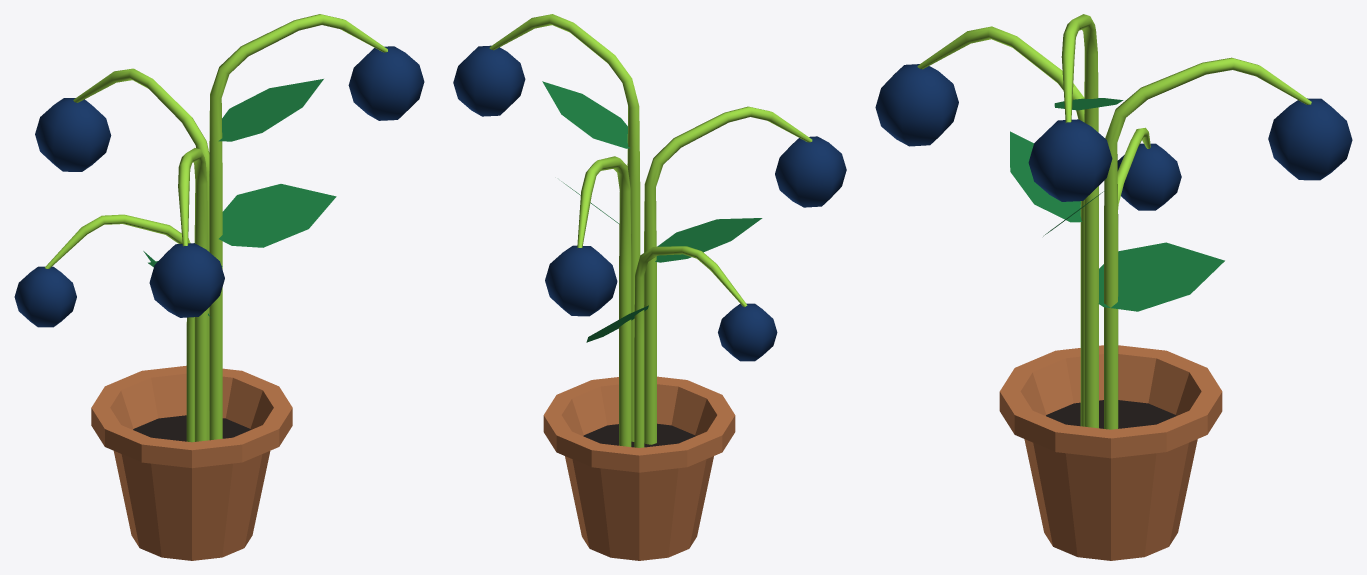
File: MM_Plant_A_Pot.fbx
3 renders of one model, left to right at view 1: azimuth 30°, elevation 25°; view 2: azimuth 150°, elevation 25°; view 3: azimuth 270°, elevation 25°, orthographic. The views are drawn at different scales.
Parts seen in each view (by area): view 1: Cylinder.005, Plane.017, Plane.016; view 2: Cylinder.005, Plane.016, Plane.015; view 3: Cylinder.005, Plane.018, Plane.015.
Part boxes in pixels (box(x1,y1,x2,y2)): Cylinder.005: box(14, 14, 424, 560); Plane.017: box(219, 184, 336, 247); Plane.016: box(218, 79, 323, 141); Cylinder.005: box(453, 14, 846, 560); Plane.016: box(542, 81, 629, 148); Plane.015: box(655, 218, 762, 262); Cylinder.005: box(875, 14, 1352, 560); Plane.018: box(1098, 242, 1224, 311); Plane.015: box(1010, 131, 1082, 222).
Size of the model in its own units: 48.61 by 65.54 by 50.46.
